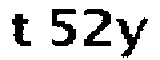2: (83, 6, 112, 49)
5: (45, 6, 78, 52)
t: (7, 11, 35, 50)
y: (113, 14, 148, 60)
